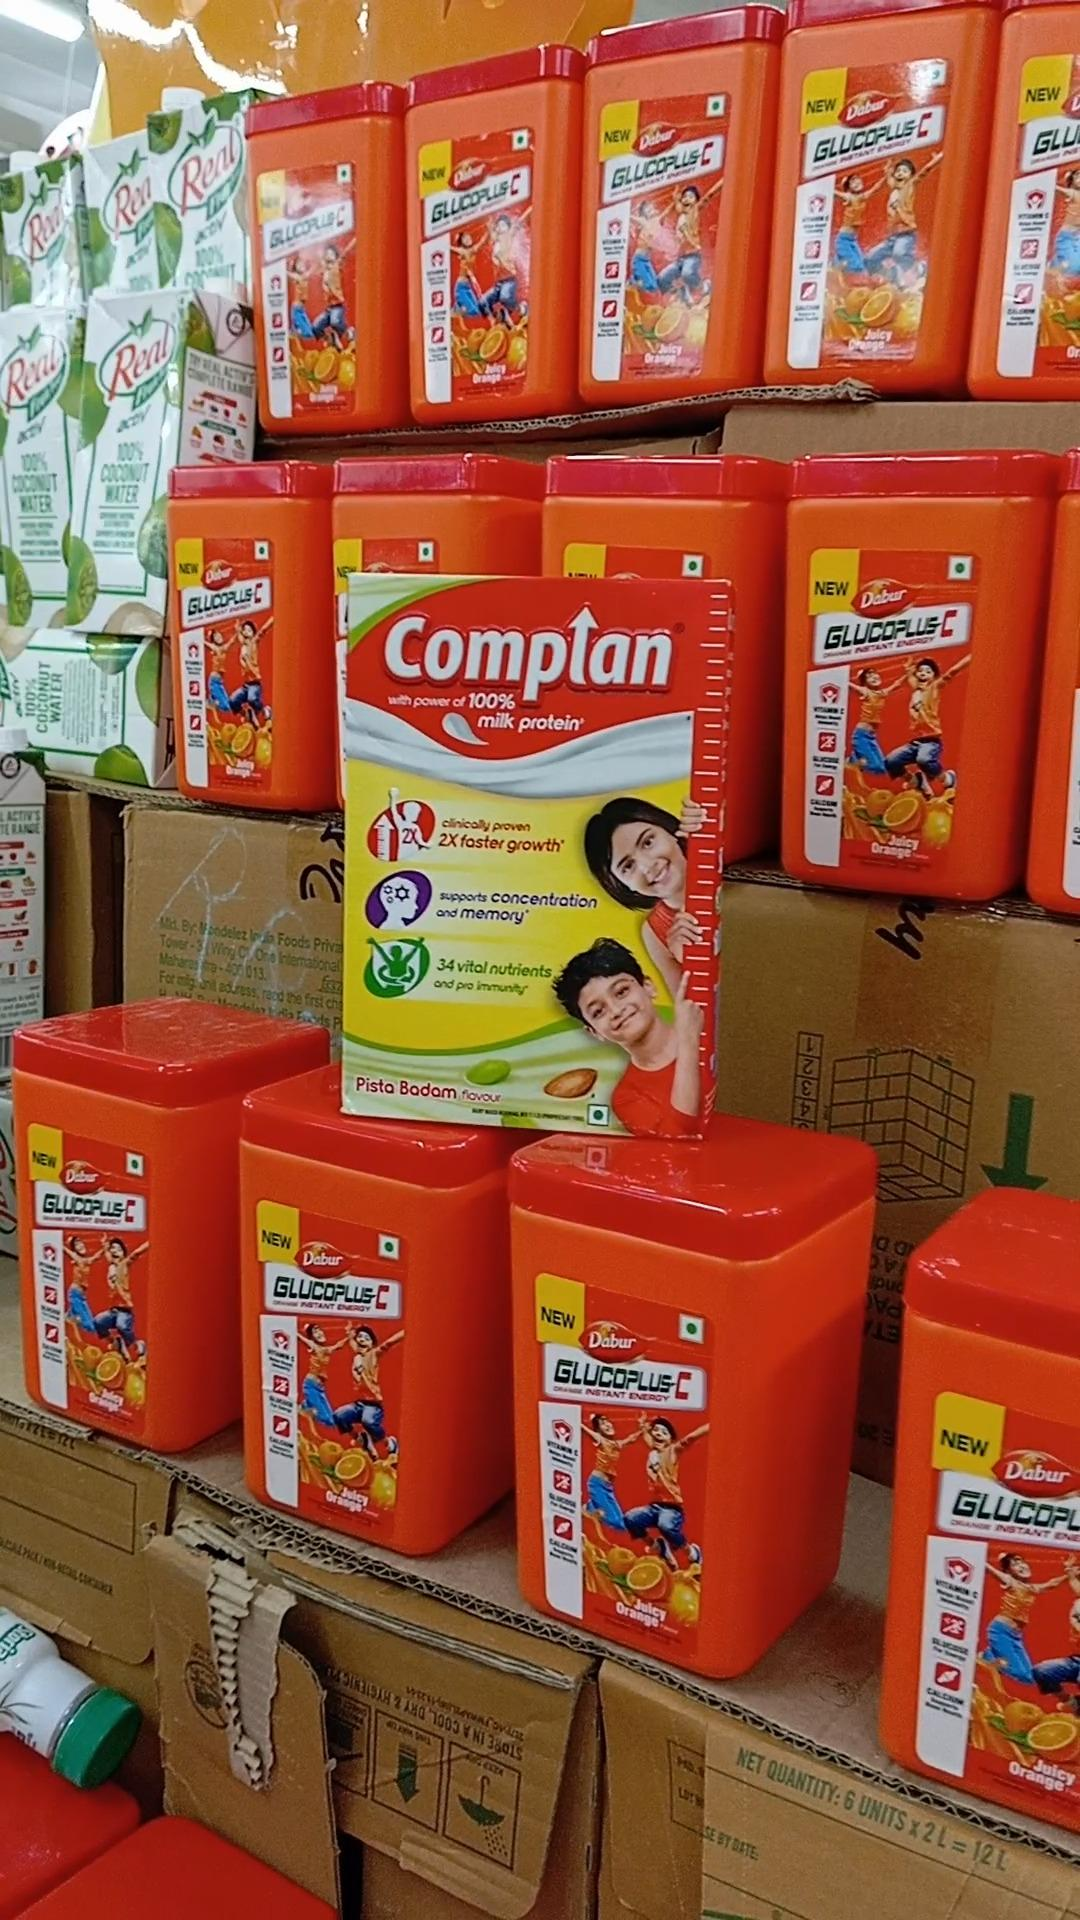COMPLAN_PISTA_BADAM_500_GMS_PACK: (351, 576, 698, 1130)
